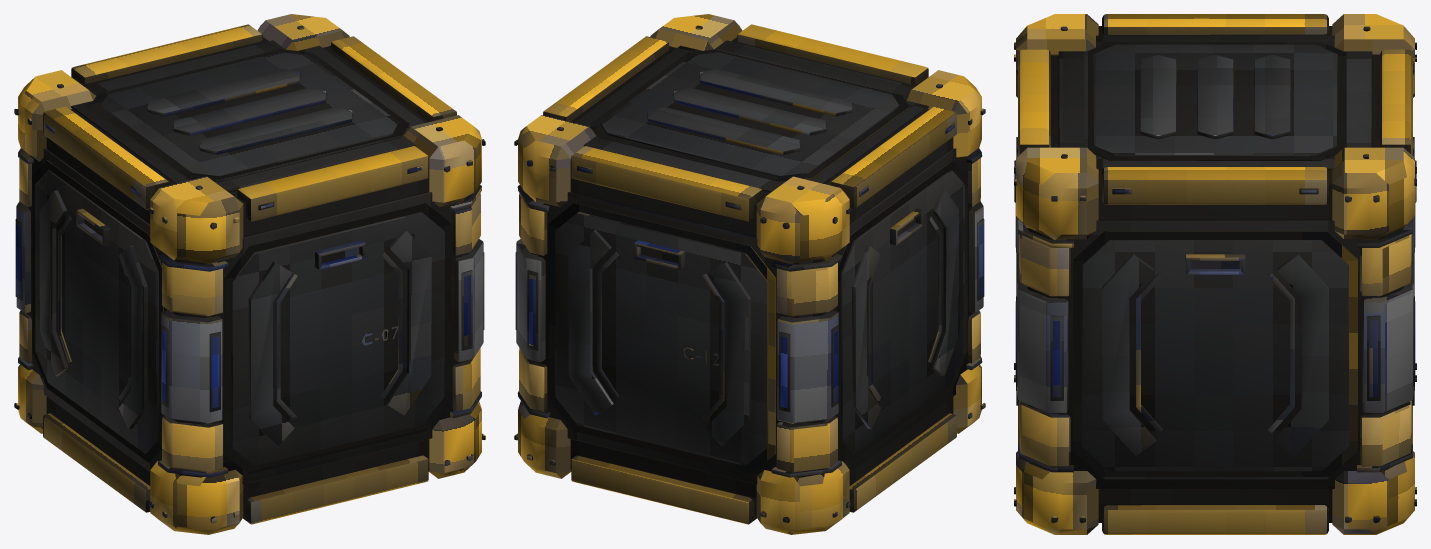
File: cargo_crate.glb
3 views of the same model, side by side, from view 1: azimuth 30°, elevation 25°; view 2: azimuth 150°, elevation 25°; view 3: azimuth 270°, elevation 25° (orthographic). The views are drawn at different scales.
Visible parts, largest first — view 1: CargoCrate; view 2: CargoCrate; view 3: CargoCrate.
Boxes of the visible parts, bbox=[...] form: CargoCrate: bbox=[14, 14, 485, 534]; CargoCrate: bbox=[514, 14, 985, 534]; CargoCrate: bbox=[1014, 14, 1416, 534].
Size of the model in its own units: 1.41 by 1.41 by 1.41.
1 material, 1 textured.
